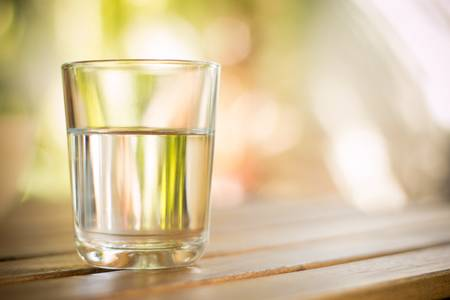glass of water: (58, 62, 216, 272)
